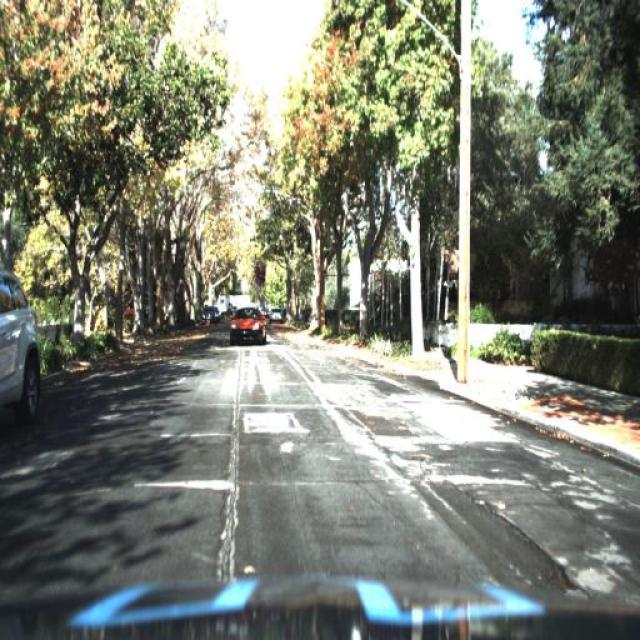car: (0, 263, 44, 436), (224, 298, 267, 346)
